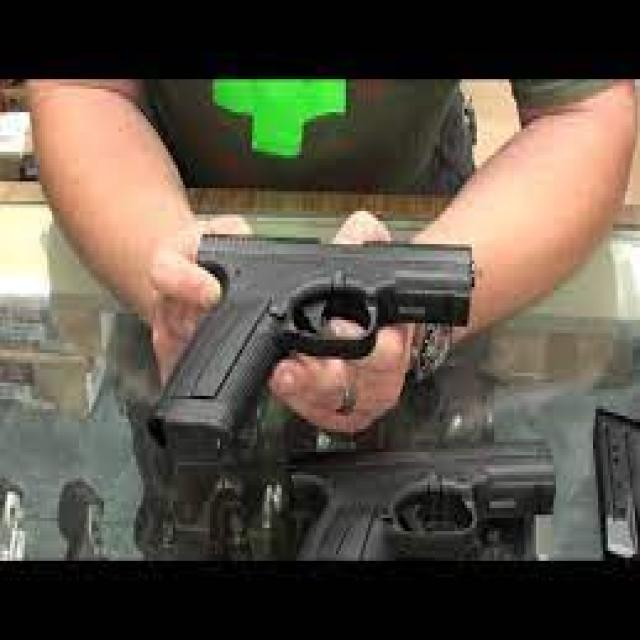Gun: (143, 209, 480, 473)
